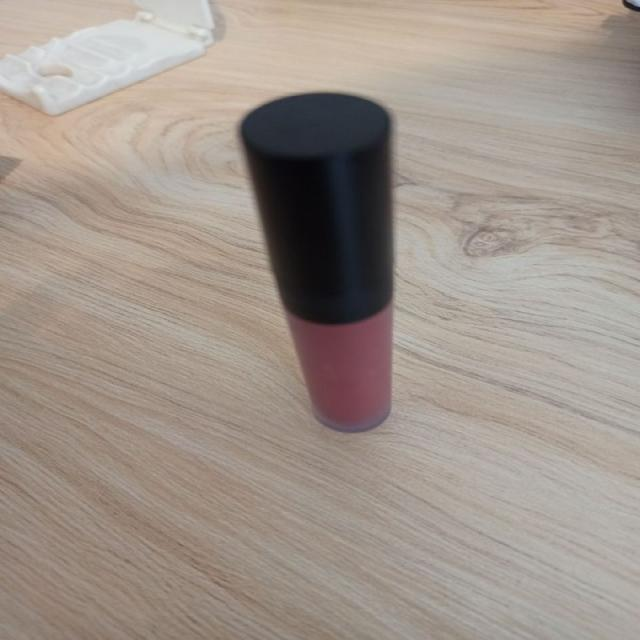lipstick: (237, 91, 394, 433)
